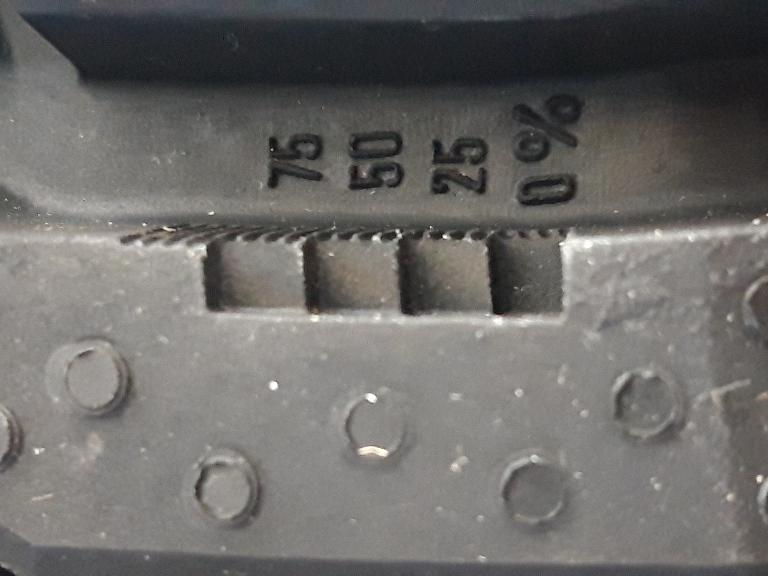temoin:100: (110, 214, 586, 332)
